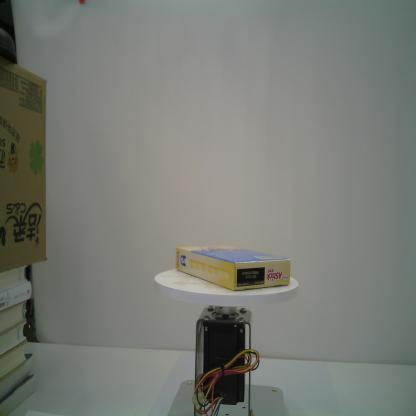Dessert: (174, 241, 292, 295)
